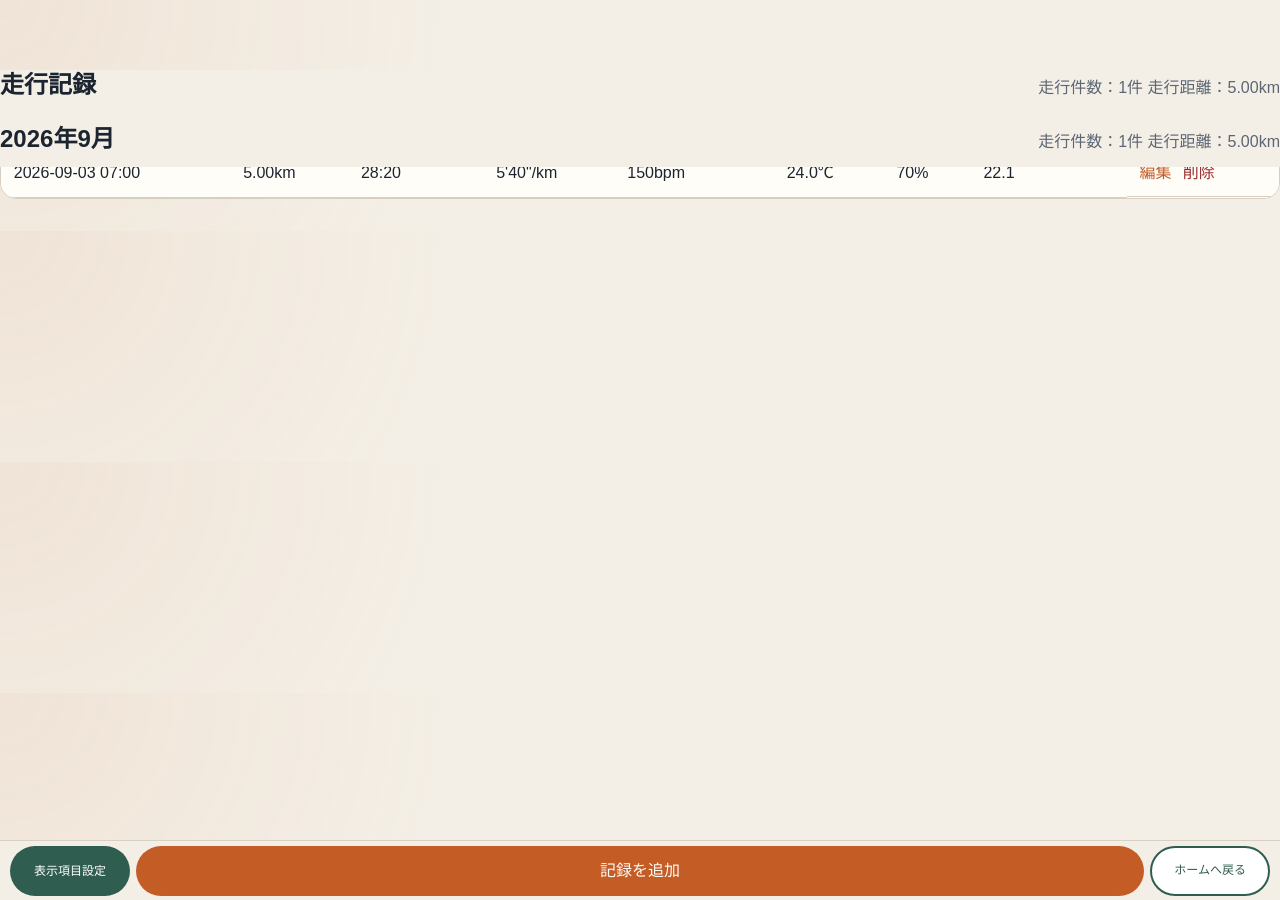
Test: 走行記録の表示項目 › 下部に表示項目設定があり、日時と距離は外せない
Check: the column heading "日時" is shown, box [1, 100, 230, 148]
Check: the column heading "WBGT i" is shown, box [971, 100, 1127, 148]
Click the button "表示項目設定" at (70, 871), box [10, 846, 130, 896]
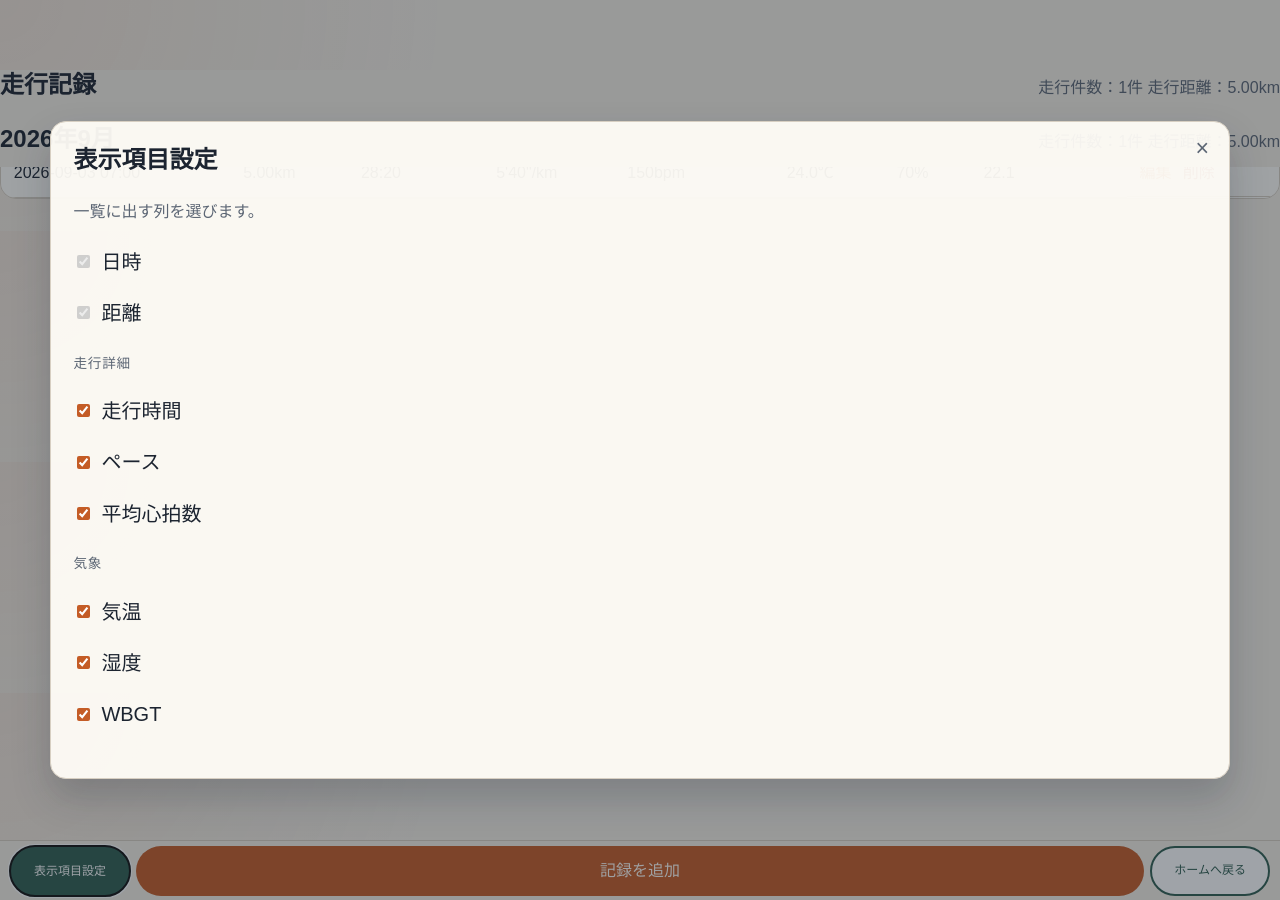
Check: the checkbox labelled "日時" is disabled, box [77, 244, 90, 279]
Check: the checkbox labelled "距離" is disabled, box [77, 295, 90, 330]
Check: the checkbox labelled "日時" is checked, box [77, 244, 90, 279]
